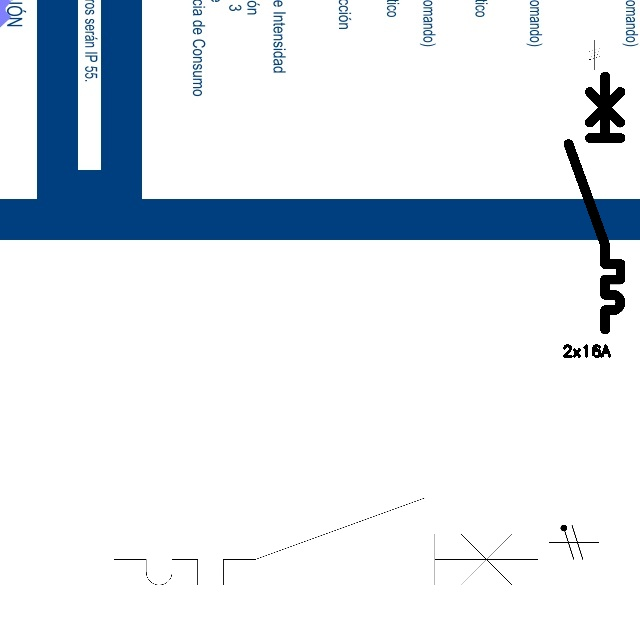interruptor_termomagnetico: (103, 487, 548, 596), (562, 70, 627, 336)
